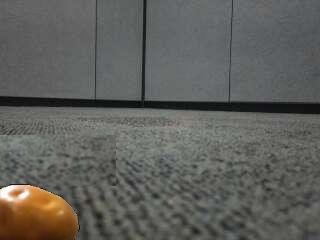Potato: (0, 181, 81, 240)
